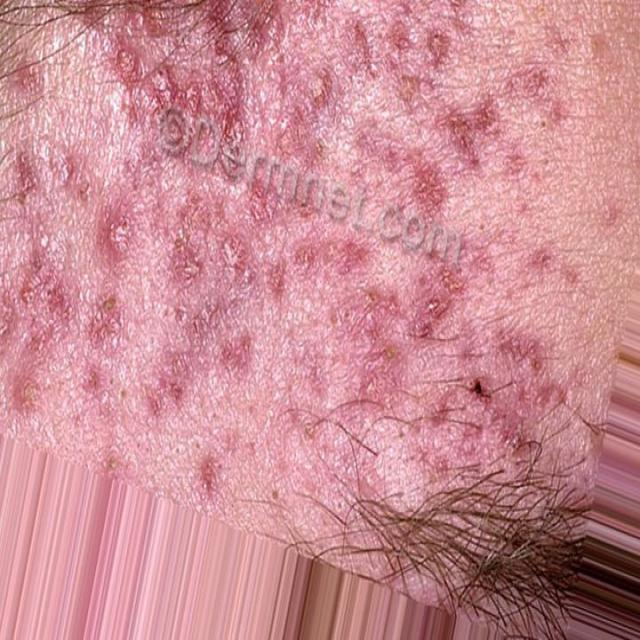acne: (112, 26, 198, 132), (212, 8, 252, 154), (21, 150, 58, 294), (294, 54, 340, 126), (95, 198, 134, 282), (170, 221, 210, 301), (14, 26, 54, 102), (356, 302, 404, 364), (451, 108, 490, 182), (221, 232, 261, 292), (89, 309, 130, 346)
